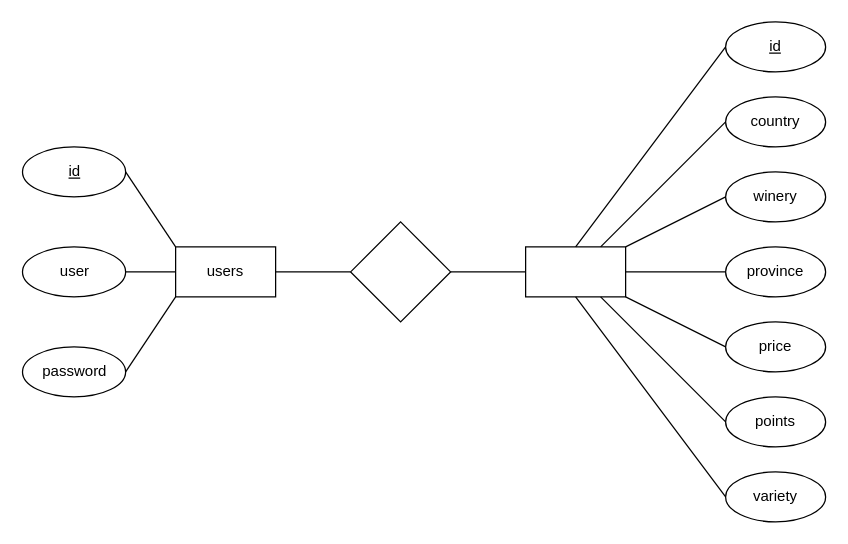
Image size: 848x544. Some labels were removed from this diagram. Each missing label, with the box of its shape:
search: (349, 221, 451, 322)
wines: (524, 246, 626, 297)
